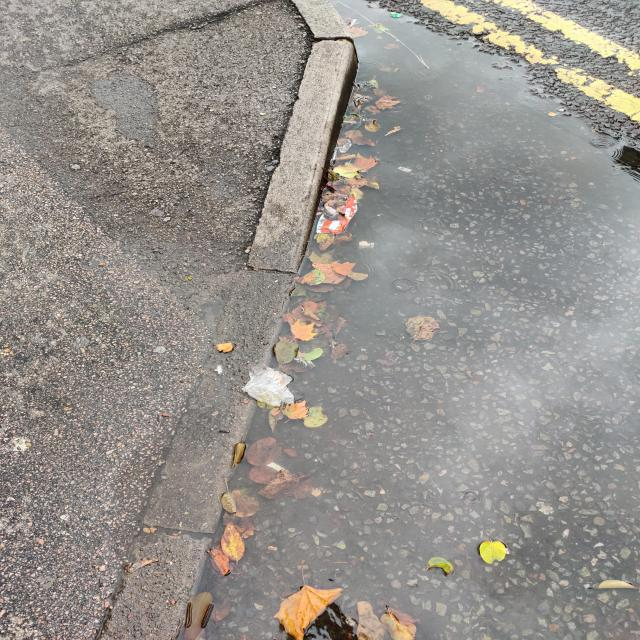litter: (292, 161, 369, 245), (240, 362, 297, 410)
